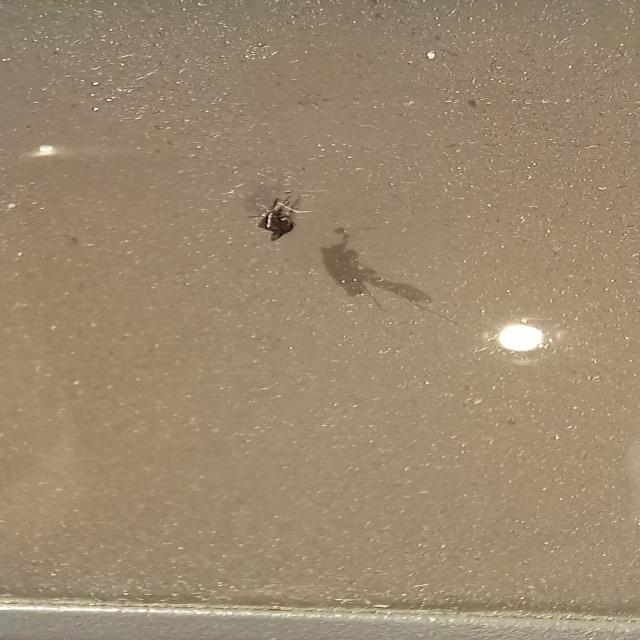albopictus: (243, 192, 318, 242)
